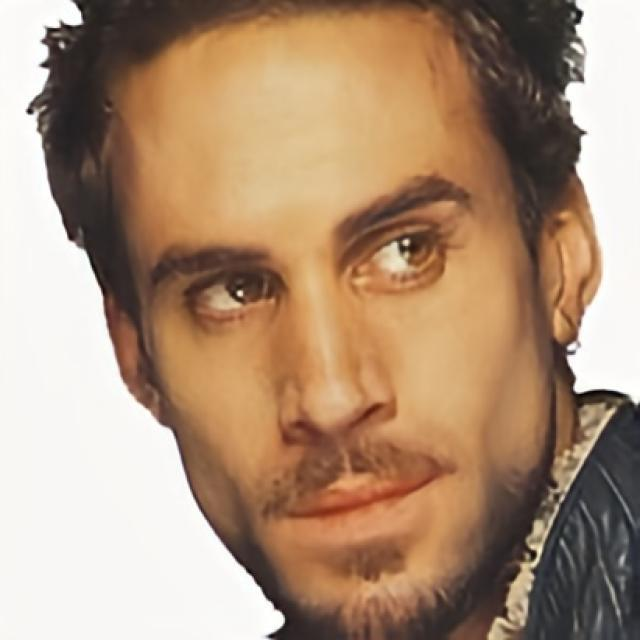content: (113, 0, 557, 640)
